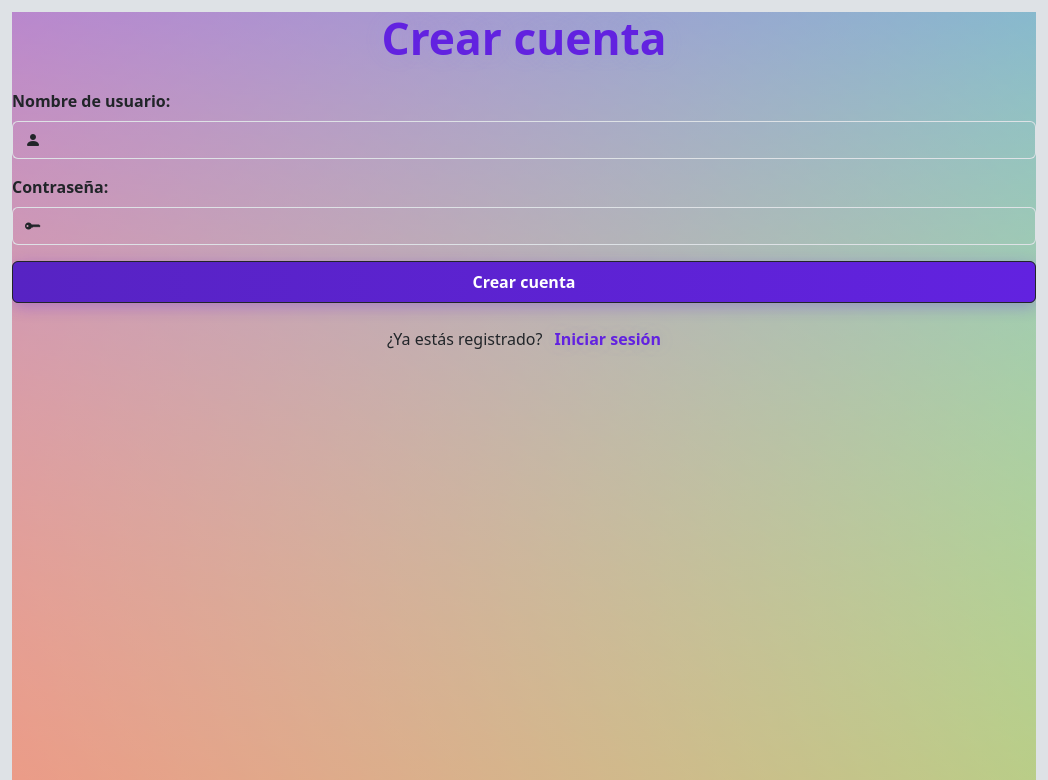
Test: RegisterForm › register new user
Step 1. Type "test-username" into the field labelled "Nombre de usuario:" → (544, 140), box top-left (52, 121), bottom-right (1036, 159)
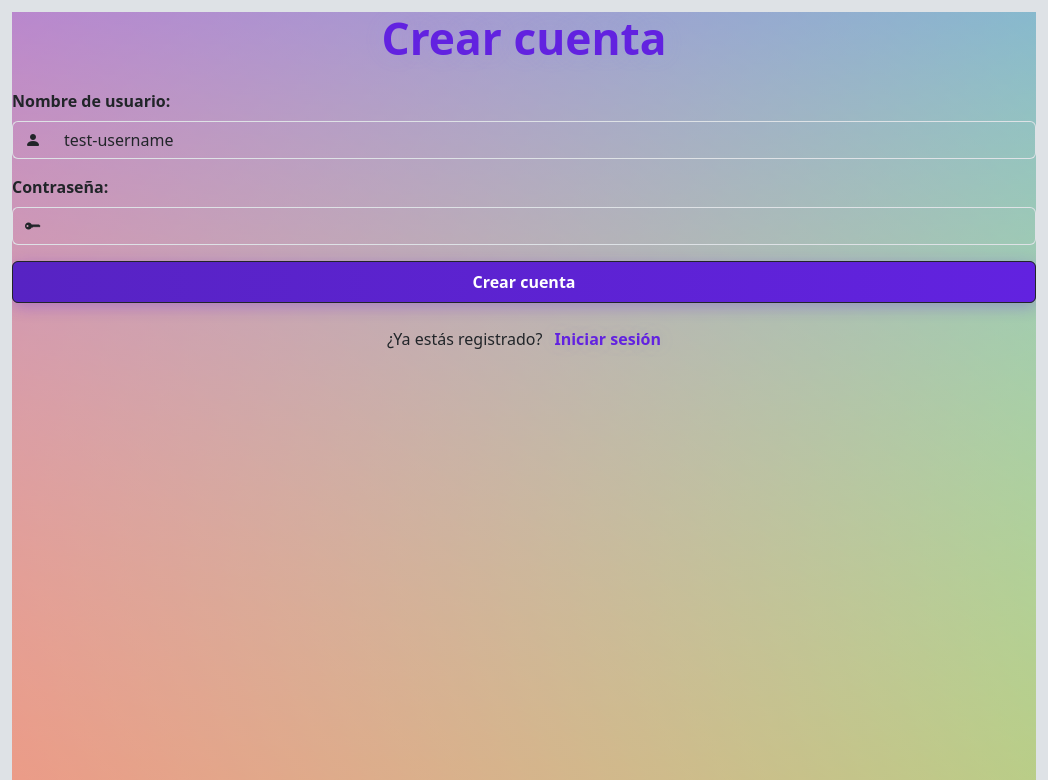
Step 2. Type "testpassword" into the password field labelled "Contraseña:" → (544, 226), box top-left (52, 207), bottom-right (1036, 245)
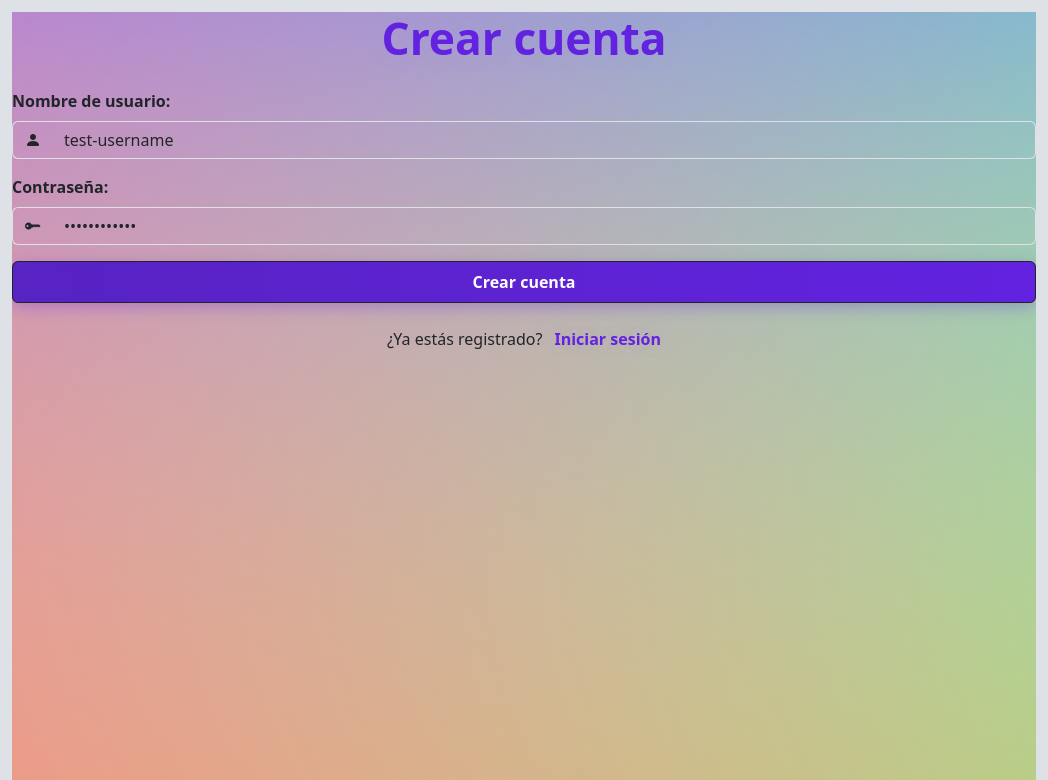
Step 3. Click the button "Crear cuenta" → (524, 282), box top-left (12, 261), bottom-right (1036, 303)
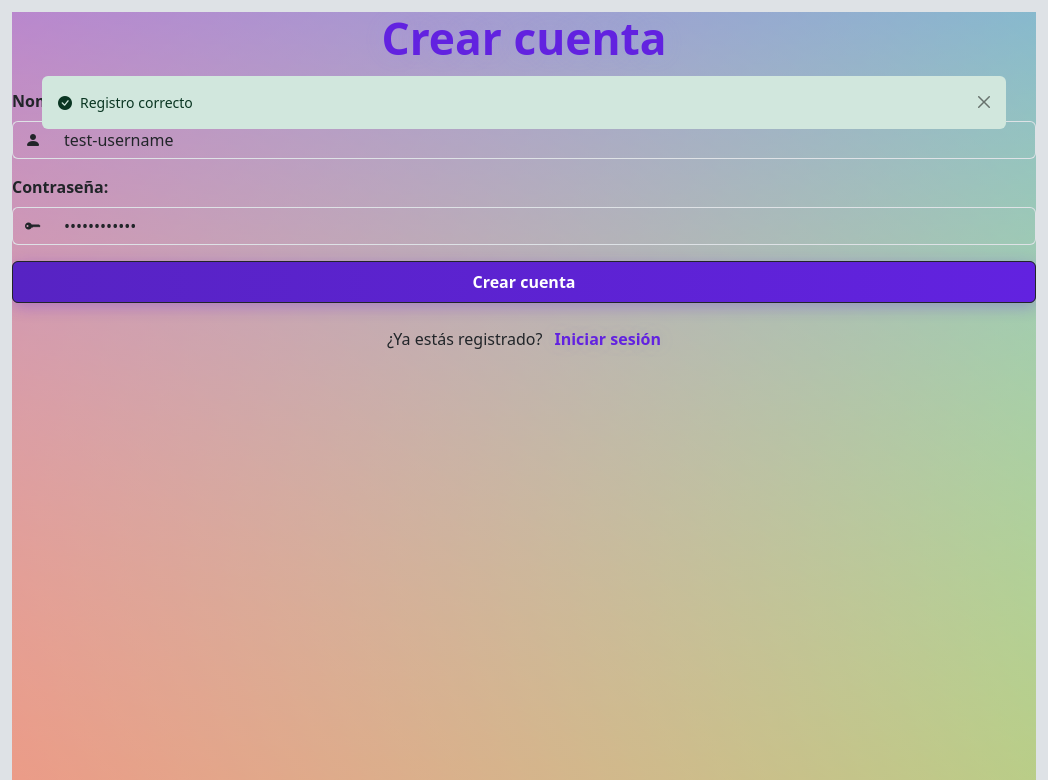
Expected: the text "Registro correcto" is shown, top-left (80, 93), bottom-right (193, 112)
